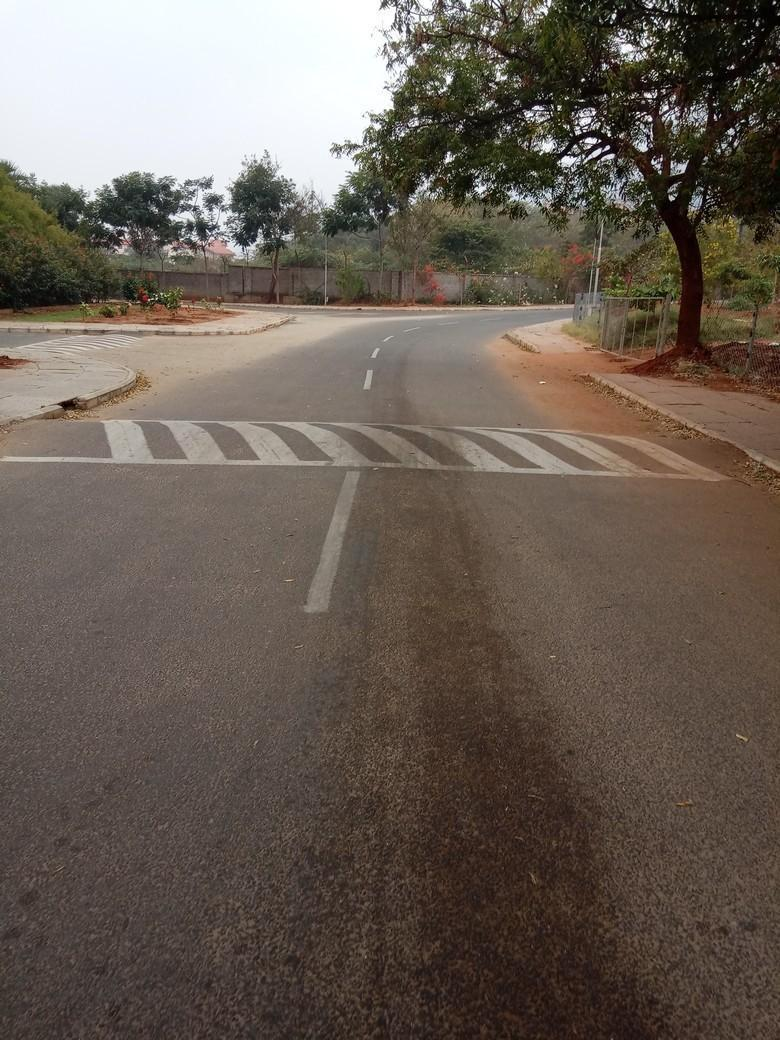speedbreaker: (40, 415, 726, 478)
